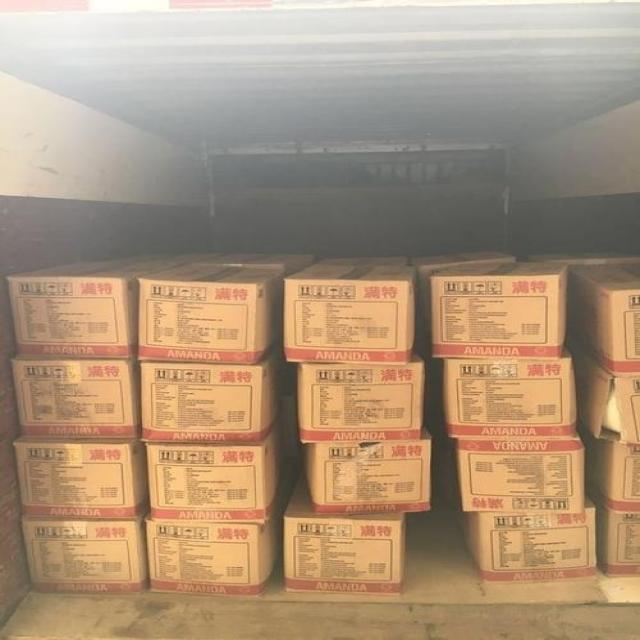box: (9, 262, 187, 358), (137, 261, 283, 364), (145, 416, 285, 523), (283, 477, 407, 596), (282, 262, 419, 367), (429, 262, 571, 360), (142, 348, 279, 442), (443, 346, 580, 439), (461, 492, 596, 583), (147, 508, 278, 598), (300, 426, 433, 512), (298, 353, 426, 442), (14, 435, 148, 518), (19, 510, 148, 595), (457, 431, 586, 515), (10, 356, 142, 438), (411, 251, 517, 329), (568, 262, 640, 376), (579, 353, 640, 446), (585, 438, 640, 517), (594, 506, 640, 578), (187, 254, 315, 277), (525, 250, 640, 268), (78, 254, 225, 262), (320, 257, 407, 267)
